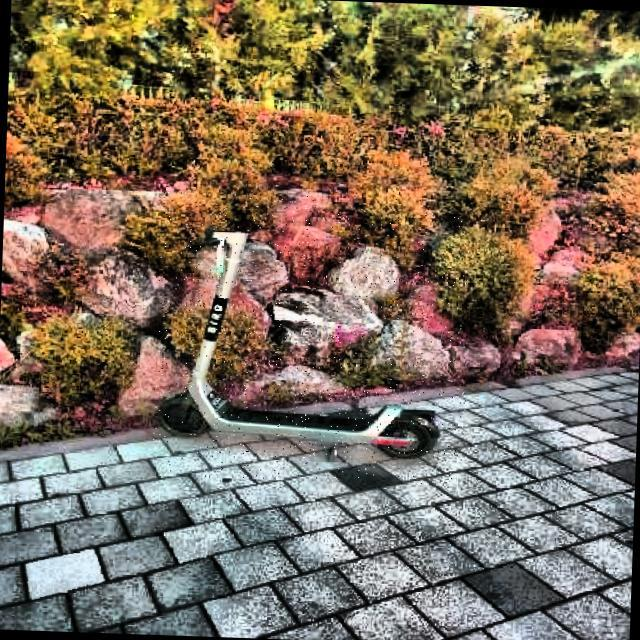bike: (171, 229, 439, 461)
